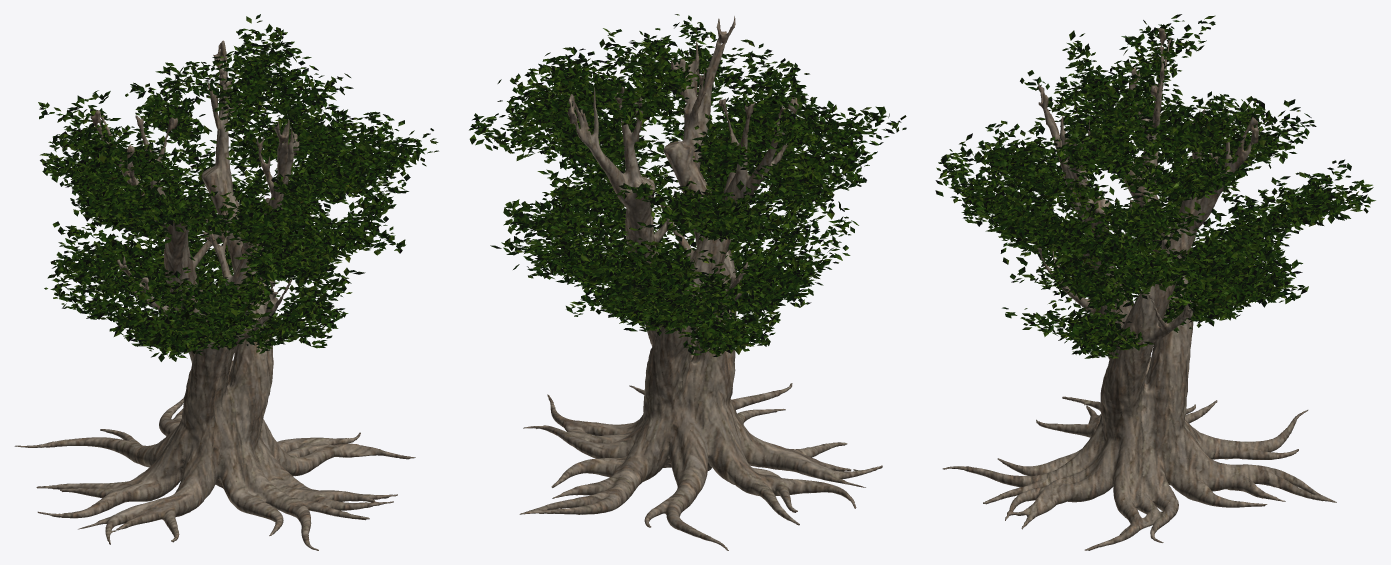
The model's file is dead-oak-v03-leafy.glb.
3 renders of one model, left to right at view 1: azimuth 30°, elevation 25°; view 2: azimuth 150°, elevation 25°; view 3: azimuth 270°, elevation 25°, orthographic. The views are drawn at different scales.
Visible parts, largest first — view 1: Dead oak V03 | attached photo foliage, Dead oak V03 | connected trunk and limbs; view 2: Dead oak V03 | attached photo foliage, Dead oak V03 | connected trunk and limbs; view 3: Dead oak V03 | attached photo foliage, Dead oak V03 | connected trunk and limbs.
Boxes of the visible parts, <box> form: Dead oak V03 | attached photo foliage: <box>38,14,438,361</box>; Dead oak V03 | connected trunk and limbs: <box>14,40,415,550</box>; Dead oak V03 | attached photo foliage: <box>469,14,906,356</box>; Dead oak V03 | connected trunk and limbs: <box>519,16,882,550</box>; Dead oak V03 | attached photo foliage: <box>935,14,1375,358</box>; Dead oak V03 | connected trunk and limbs: <box>942,28,1336,550</box>.
Size of the model in its own units: 6.4 by 6.65 by 6.43.
Materials: 6 (6 with a texture image).
